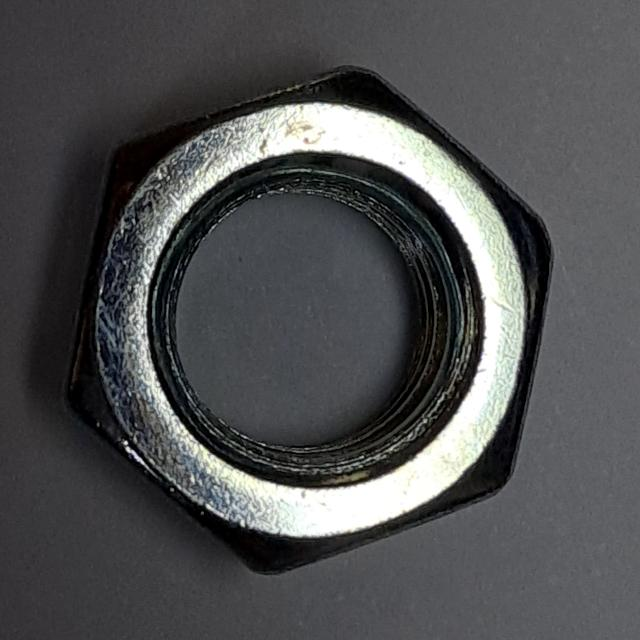Excellent: (49, 49, 563, 595)
